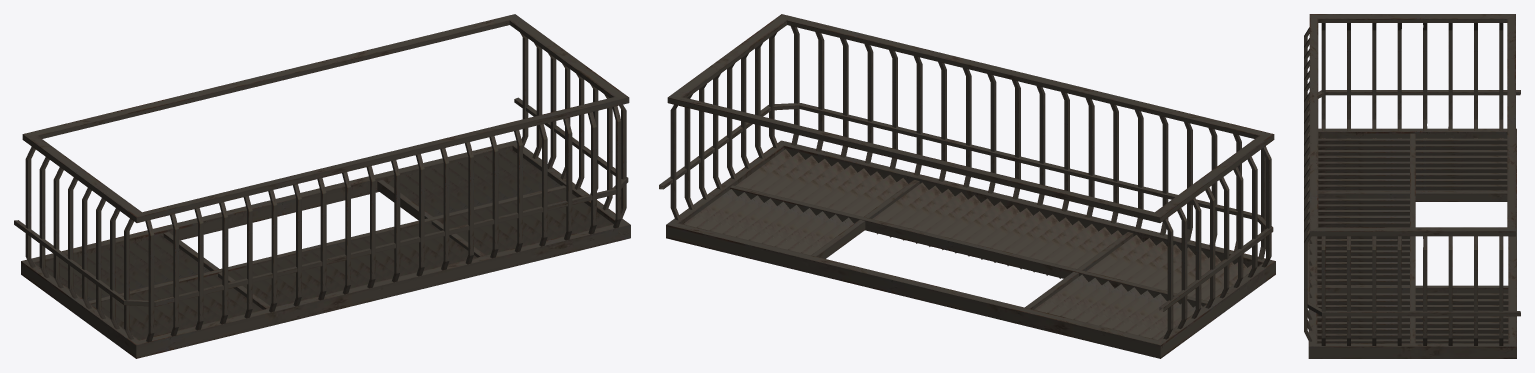
Rendered from Prop_FireEscape_Top.glb.
3 views of the same model, side by side, from view 1: azimuth 30°, elevation 25°; view 2: azimuth 150°, elevation 25°; view 3: azimuth 270°, elevation 25° (orthographic). The views are drawn at different scales.
Visible parts, largest first — view 1: Prop_FireEscape_Top; view 2: Prop_FireEscape_Top; view 3: Prop_FireEscape_Top.
Boxes of the visible parts, bbox=[...] form: Prop_FireEscape_Top: bbox=[14, 14, 630, 358]; Prop_FireEscape_Top: bbox=[659, 14, 1275, 358]; Prop_FireEscape_Top: bbox=[1304, 14, 1520, 358].
Bounding box in the file's own units: 4.8 × 1.28 × 1.98.
1 material, 1 textured.
